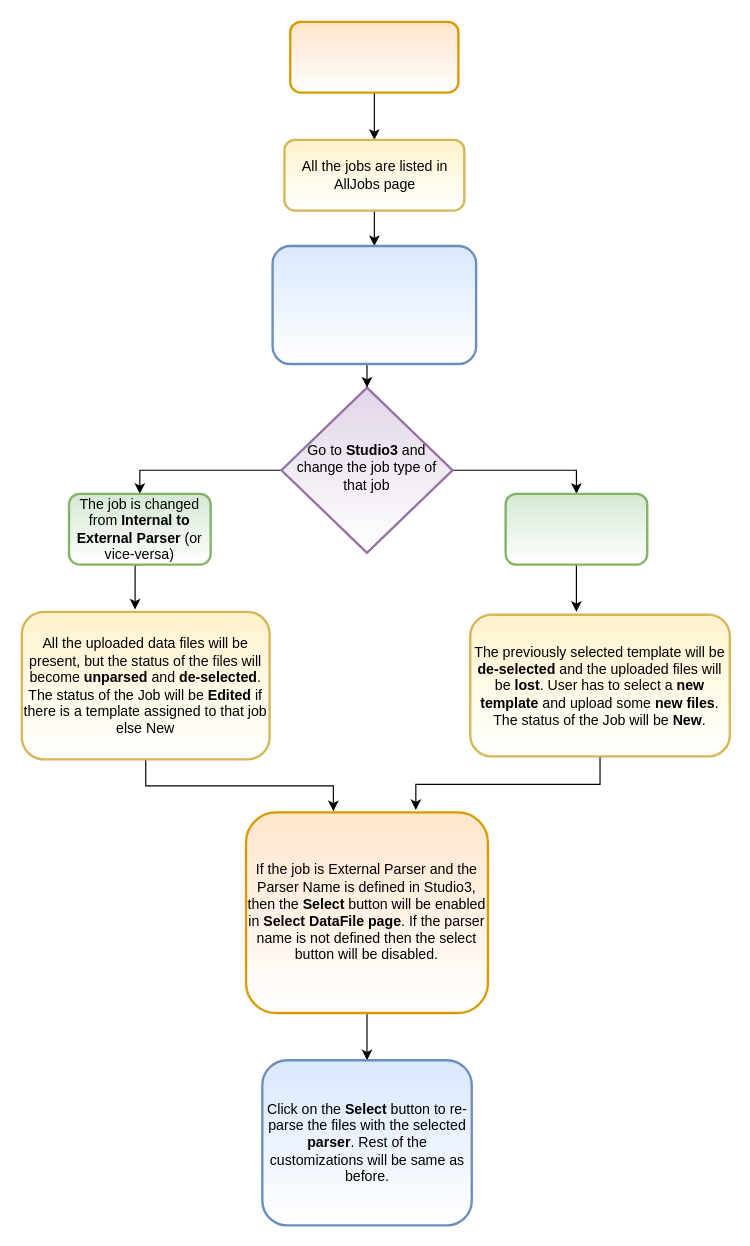
Image size: 750x1246. Some labels were removed from this diagram. The shapes that lost their labels are listed below. From the top down, each one's centre as x and y in pixels, then its label:
point (374, 56): User searches for a customer in C&T portal
point (374, 304): select a job, select a template, upload some data files and parse and map them
point (576, 528): The job is changed from Normal to Overlay Job (or vice-versa)
